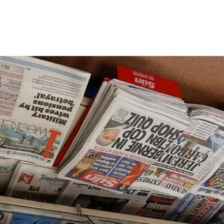news_paper: (55, 84, 224, 199), (0, 55, 93, 171), (50, 178, 155, 222), (118, 181, 224, 224), (8, 159, 70, 207), (183, 139, 224, 205), (0, 156, 20, 195)
